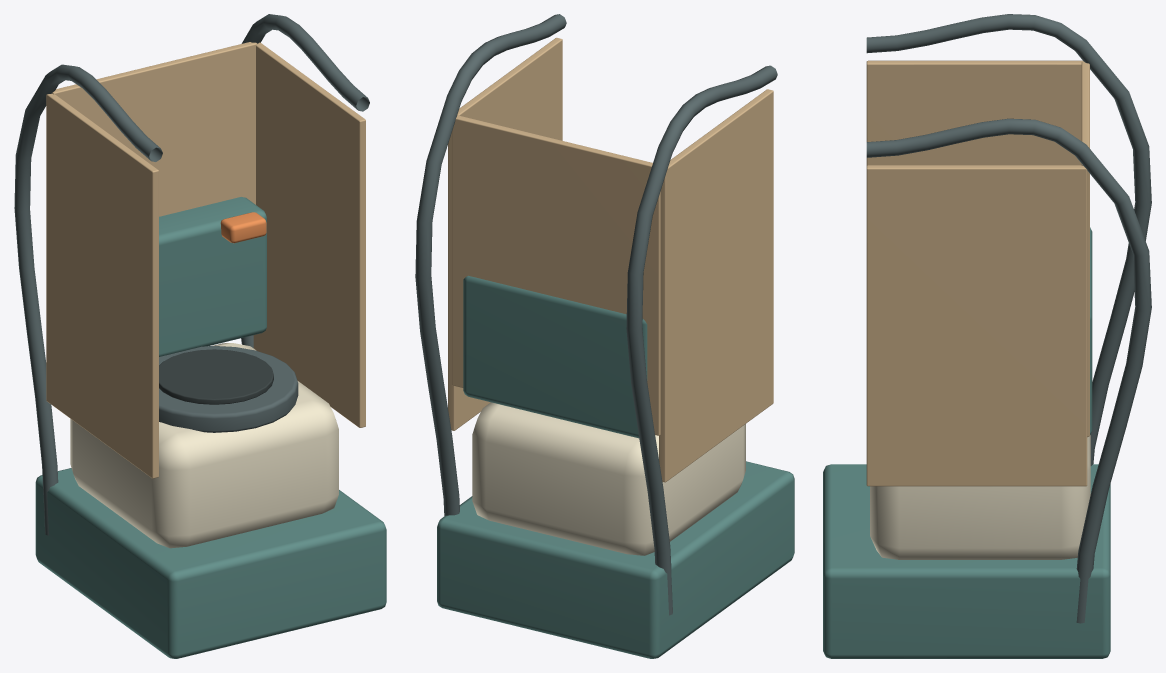
The model's file is NW1_Toilet.fbx.
3 renders of one model, left to right at view 1: azimuth 30°, elevation 25°; view 2: azimuth 150°, elevation 25°; view 3: azimuth 270°, elevation 25°, orthographic. The views are drawn at different scales.
Parts seen in each view (by area): view 1: NW1_Toilet_NW1_Canvas, NW1_Toilet_NW1_Teal, NW1_Toilet_NW1_Ivory, NW1_Toilet_NW1_Frame, NW1_Toilet_NW1_Rubber, NW1_Toilet_NW1_Orange; view 2: NW1_Toilet_NW1_Canvas, NW1_Toilet_NW1_Teal, NW1_Toilet_NW1_Ivory, NW1_Toilet_NW1_Frame; view 3: NW1_Toilet_NW1_Canvas, NW1_Toilet_NW1_Teal, NW1_Toilet_NW1_Frame, NW1_Toilet_NW1_Ivory.
Part boxes in pixels (x1,y1,x2,y2): NW1_Toilet_NW1_Canvas: (46, 42, 365, 478); NW1_Toilet_NW1_Teal: (35, 197, 386, 658); NW1_Toilet_NW1_Ivory: (70, 343, 338, 548); NW1_Toilet_NW1_Frame: (14, 14, 369, 535); NW1_Toilet_NW1_Rubber: (159, 349, 273, 404); NW1_Toilet_NW1_Orange: (220, 212, 266, 243); NW1_Toilet_NW1_Canvas: (448, 37, 773, 482); NW1_Toilet_NW1_Teal: (437, 275, 794, 658); NW1_Toilet_NW1_Ivory: (472, 402, 745, 555); NW1_Toilet_NW1_Frame: (415, 14, 777, 615); NW1_Toilet_NW1_Canvas: (866, 60, 1089, 486); NW1_Toilet_NW1_Teal: (823, 227, 1110, 658); NW1_Toilet_NW1_Frame: (866, 14, 1151, 623); NW1_Toilet_NW1_Ivory: (870, 435, 1090, 559).
Size of the model in its own units: 0.79 by 1.78 by 0.983.
